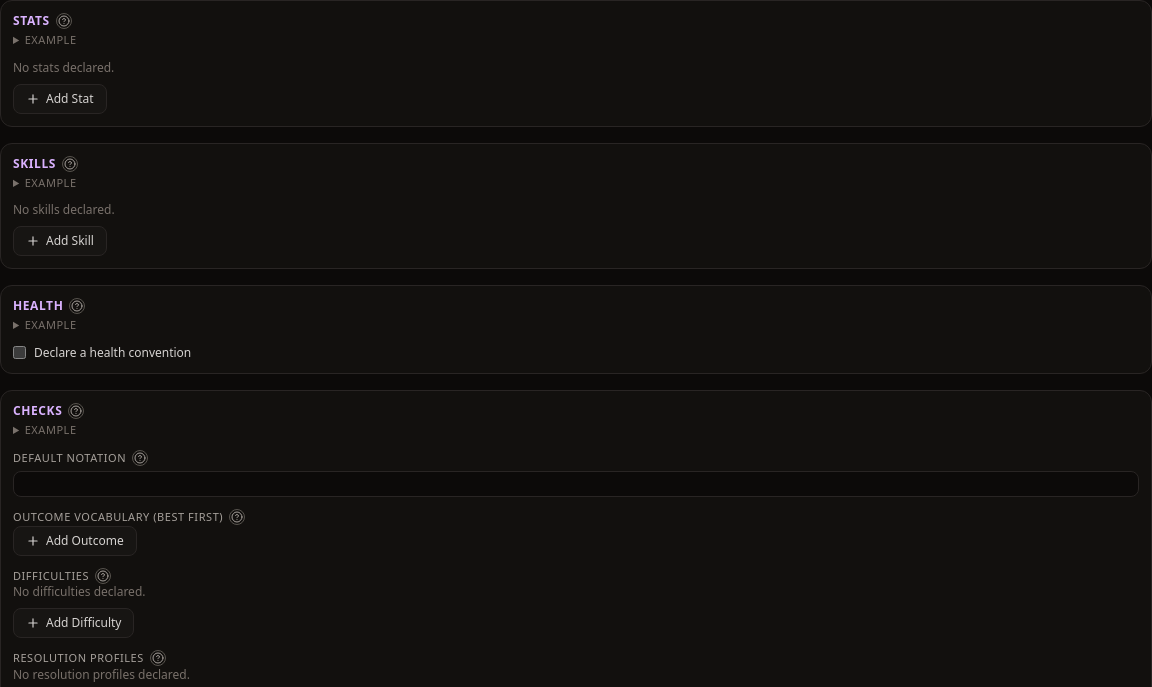
it: MechanicsEditor › carries a worked example for the checks section
Expected: the text "Checks" is shown, [13,402,62,419]
Click the heading "Example" below "Checks" at (51, 430), box [25,422,77,437]
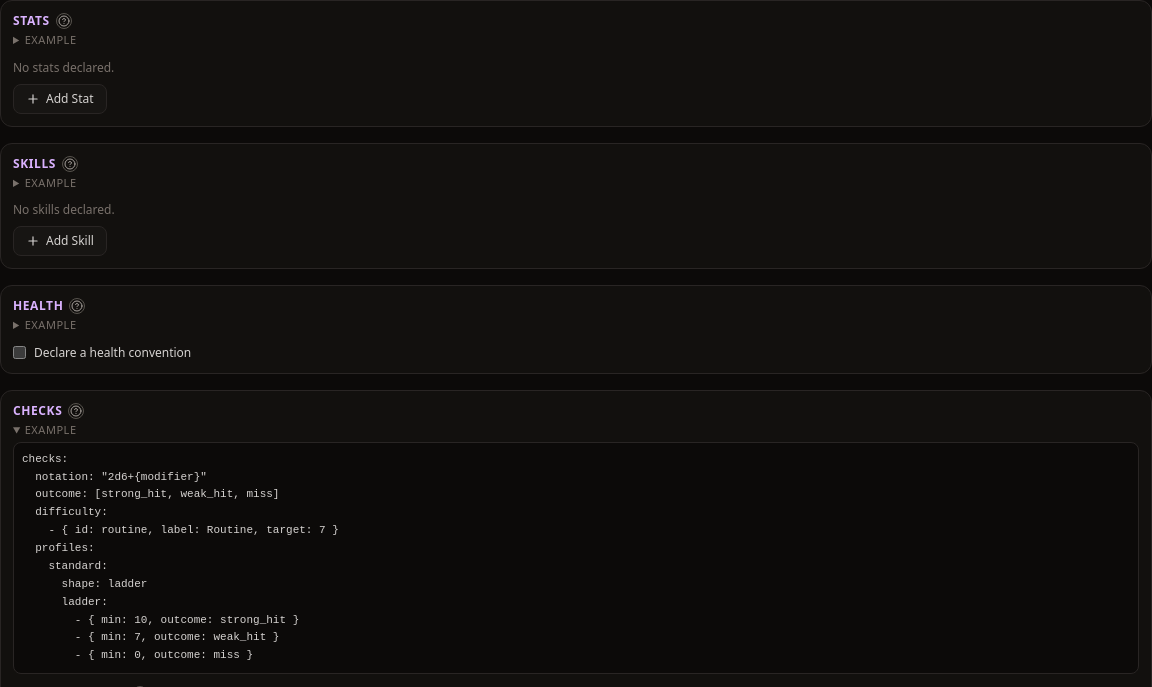
Expected: the text "outcome: [strong_hit, weak_hit, miss]" is shown, [22,453,339,661]
